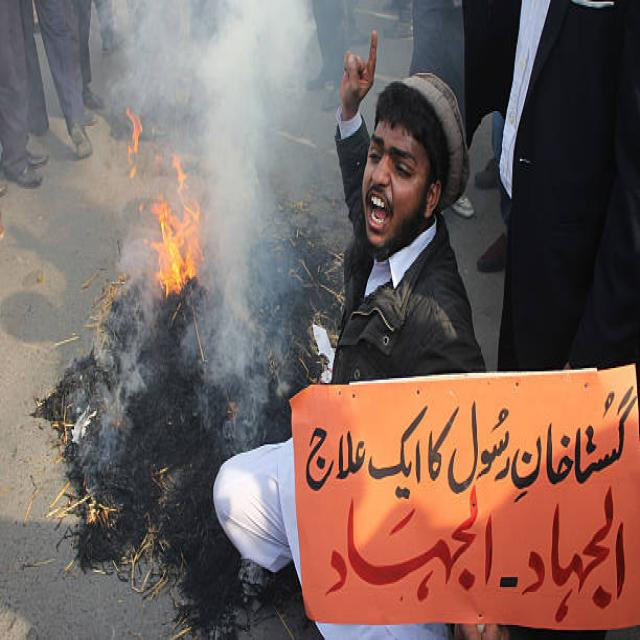fire: (142, 193, 204, 298), (125, 107, 142, 180)
